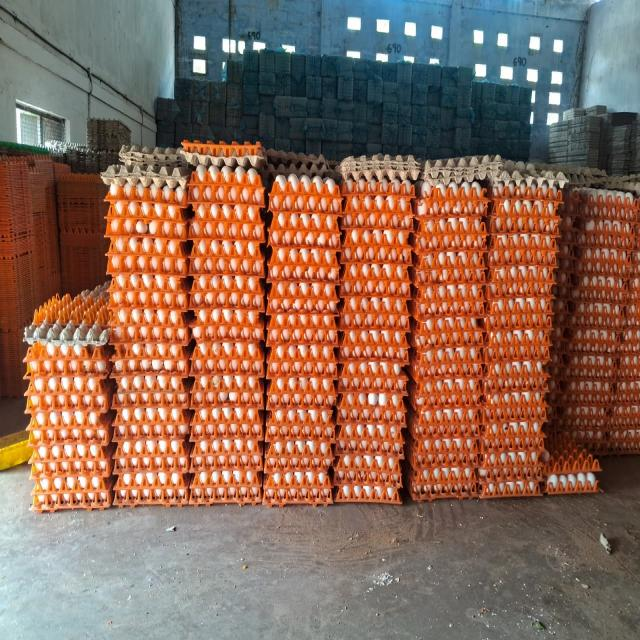egg_tray: (108, 184, 190, 505), (479, 183, 561, 497), (264, 175, 341, 505), (406, 183, 486, 499), (334, 179, 412, 502), (190, 165, 264, 503), (542, 189, 620, 493), (563, 190, 638, 451), (501, 187, 578, 433), (562, 190, 634, 446), (480, 253, 552, 495), (266, 175, 340, 408), (334, 290, 408, 501), (26, 342, 112, 511), (189, 166, 264, 347), (190, 322, 264, 503), (552, 187, 632, 352), (189, 165, 264, 341), (107, 183, 188, 343), (340, 181, 412, 359), (334, 329, 407, 501), (264, 335, 336, 505), (190, 339, 264, 504), (407, 347, 483, 499), (265, 343, 336, 504), (409, 318, 483, 469), (267, 175, 341, 321), (411, 185, 486, 329), (538, 186, 579, 447), (340, 180, 412, 328), (114, 365, 190, 505), (486, 192, 560, 333), (189, 165, 264, 303), (106, 183, 186, 309), (412, 183, 486, 319), (266, 347, 336, 487), (268, 181, 340, 313), (571, 192, 635, 339), (486, 201, 558, 331), (486, 202, 558, 330), (480, 357, 546, 496), (338, 281, 410, 405), (480, 360, 546, 494), (554, 329, 624, 452), (114, 393, 190, 505), (114, 394, 190, 505), (108, 237, 188, 342), (480, 367, 546, 494), (26, 343, 110, 441), (264, 392, 334, 505), (112, 307, 190, 408), (264, 393, 334, 505), (334, 392, 405, 501), (190, 401, 263, 503), (336, 361, 406, 467), (263, 403, 334, 505), (406, 406, 482, 499), (479, 391, 546, 496), (478, 393, 546, 496), (572, 190, 636, 299), (190, 407, 262, 503), (267, 316, 337, 412), (189, 237, 264, 325), (608, 253, 640, 453), (338, 328, 408, 419), (191, 322, 264, 409), (266, 408, 332, 504), (555, 352, 618, 451), (25, 343, 111, 415), (562, 345, 619, 451), (334, 420, 404, 503), (114, 407, 191, 481), (30, 443, 112, 511), (479, 407, 544, 492), (269, 174, 342, 248), (24, 283, 109, 346), (112, 343, 190, 410), (269, 176, 341, 248), (113, 405, 189, 473), (412, 250, 484, 319), (486, 257, 554, 330), (409, 317, 484, 383), (409, 316, 484, 382), (266, 342, 336, 411), (488, 183, 562, 248), (26, 283, 106, 343), (106, 183, 186, 241), (106, 183, 187, 239), (266, 314, 336, 378), (190, 184, 264, 242), (405, 445, 476, 501), (340, 179, 414, 231), (574, 189, 638, 249), (566, 279, 628, 337), (339, 312, 408, 363), (542, 434, 600, 494), (334, 452, 402, 503), (267, 243, 338, 291), (342, 228, 410, 278), (112, 366, 190, 409), (107, 235, 186, 277), (338, 359, 408, 406), (191, 233, 264, 278), (409, 316, 488, 357), (599, 374, 640, 453), (188, 165, 264, 207), (190, 461, 262, 505), (414, 181, 488, 223), (25, 342, 110, 378), (190, 374, 264, 415), (28, 409, 110, 446), (269, 173, 341, 215), (570, 299, 626, 353), (415, 176, 488, 217), (110, 273, 188, 311), (112, 371, 190, 409), (190, 275, 264, 315), (266, 338, 338, 379), (114, 437, 190, 475), (190, 305, 264, 344), (112, 307, 190, 344), (420, 155, 526, 182), (574, 189, 638, 233), (554, 187, 578, 301), (336, 419, 404, 459), (409, 377, 482, 414), (484, 359, 548, 401), (190, 341, 264, 377), (112, 343, 190, 377), (266, 313, 338, 349), (340, 261, 410, 298), (339, 295, 410, 331), (190, 406, 263, 441), (178, 140, 266, 169), (113, 471, 188, 505), (0, 155, 31, 237), (488, 230, 556, 267), (341, 227, 410, 263), (267, 281, 339, 315), (262, 471, 332, 505), (484, 326, 550, 362), (101, 163, 188, 190), (260, 162, 340, 191), (265, 439, 332, 473), (338, 153, 424, 179), (265, 409, 334, 441), (490, 173, 562, 203), (565, 406, 610, 454), (263, 148, 339, 176), (576, 247, 630, 278), (606, 407, 640, 454), (118, 145, 182, 168), (544, 470, 600, 494), (412, 385, 468, 408), (144, 345, 188, 372), (491, 332, 528, 357), (376, 230, 406, 259), (266, 491, 330, 503), (518, 249, 552, 269), (268, 360, 295, 377), (214, 309, 260, 317), (227, 450, 257, 460), (194, 324, 212, 340), (222, 293, 242, 305), (225, 442, 248, 451), (214, 309, 247, 315), (142, 330, 161, 340), (407, 443, 418, 460), (194, 330, 214, 339), (224, 317, 236, 332), (460, 319, 476, 330), (434, 205, 448, 217), (350, 316, 363, 327), (161, 487, 175, 497), (118, 343, 141, 349), (416, 362, 426, 375), (178, 487, 186, 503), (610, 225, 624, 233), (392, 331, 404, 339), (598, 235, 606, 245), (502, 255, 512, 263), (290, 360, 300, 368), (539, 274, 550, 281), (592, 238, 603, 245), (308, 183, 316, 192), (372, 228, 382, 235), (464, 472, 472, 480), (570, 341, 580, 347), (274, 171, 284, 177), (302, 315, 312, 321), (76, 335, 86, 341), (484, 486, 491, 494), (148, 492, 154, 501), (325, 316, 334, 322), (284, 315, 294, 320), (258, 325, 263, 335), (348, 281, 354, 289), (429, 365, 437, 371), (634, 355, 638, 367), (142, 487, 148, 495), (398, 322, 404, 330), (424, 330, 430, 338), (256, 223, 262, 230), (362, 234, 370, 239), (416, 209, 422, 215), (342, 323, 348, 329), (298, 345, 304, 351), (578, 333, 584, 339), (176, 477, 183, 482), (287, 182, 292, 189), (498, 485, 502, 493), (378, 202, 384, 207), (284, 351, 289, 357), (140, 432, 149, 435), (545, 321, 550, 326), (623, 354, 628, 359), (254, 177, 259, 182), (597, 303, 609, 305), (352, 385, 358, 389), (630, 434, 634, 440), (202, 372, 213, 374), (175, 354, 178, 361), (158, 345, 179, 346), (243, 318, 250, 321), (134, 381, 139, 385), (256, 313, 261, 317), (130, 490, 134, 495), (345, 475, 350, 479), (222, 310, 226, 315), (308, 347, 312, 352), (602, 192, 608, 195), (498, 486, 501, 492), (230, 318, 236, 321), (508, 485, 514, 488), (508, 407, 514, 410), (304, 331, 308, 335), (316, 316, 332, 317), (546, 323, 550, 327), (630, 408, 634, 412), (322, 185, 326, 189), (283, 393, 287, 397), (448, 187, 452, 191), (365, 228, 368, 233), (526, 227, 531, 230), (633, 399, 636, 404), (130, 360, 135, 363), (181, 343, 186, 346), (129, 345, 135, 347), (382, 247, 386, 250), (270, 317, 273, 321), (472, 352, 475, 356), (248, 327, 252, 330), (145, 475, 148, 479), (324, 379, 330, 381), (402, 300, 405, 304), (623, 292, 626, 296), (132, 433, 136, 436), (293, 176, 296, 180), (136, 361, 142, 363), (174, 343, 180, 345), (212, 310, 217, 312), (163, 343, 168, 345), (165, 355, 168, 358), (93, 338, 96, 341), (568, 331, 571, 334), (278, 328, 281, 331), (405, 327, 408, 330), (279, 361, 282, 364), (576, 342, 579, 345), (122, 335, 126, 337), (618, 202, 622, 204), (222, 310, 226, 312), (632, 409, 634, 413), (312, 331, 316, 333), (236, 310, 238, 314), (438, 189, 440, 193), (170, 366, 174, 368), (383, 185, 385, 188), (522, 332, 524, 335), (291, 315, 294, 317), (140, 394, 143, 396), (258, 327, 261, 329), (423, 477, 426, 479), (194, 444, 196, 447), (275, 477, 276, 483), (307, 361, 310, 363), (491, 380, 494, 382), (218, 177, 221, 179), (326, 402, 330, 403), (438, 321, 440, 323), (446, 215, 448, 217), (260, 336, 262, 338), (554, 379, 556, 381), (612, 304, 616, 305), (306, 378, 310, 379), (378, 460, 380, 462), (260, 329, 262, 331), (244, 312, 246, 314), (363, 315, 365, 317), (396, 300, 400, 301), (454, 474, 456, 476), (396, 299, 398, 301), (416, 355, 418, 357), (614, 222, 615, 225), (532, 394, 535, 395), (237, 311, 240, 312), (634, 401, 635, 404), (319, 316, 322, 317), (134, 376, 137, 377), (291, 176, 292, 179), (423, 185, 424, 188), (393, 256, 395, 257), (364, 286, 366, 287), (282, 349, 284, 350), (290, 315, 291, 317), (387, 300, 389, 301), (442, 451, 444, 452), (394, 299, 396, 300), (259, 456, 261, 457), (229, 394, 231, 395), (616, 296, 618, 297), (513, 256, 515, 257), (319, 316, 321, 317), (632, 423, 633, 425), (484, 495, 486, 496), (325, 379, 327, 380), (267, 502, 269, 503), (220, 187, 222, 188), (345, 327, 346, 328), (216, 347, 217, 348), (301, 332, 302, 333), (260, 336, 261, 337), (598, 469, 599, 470), (524, 203, 528, 203), (143, 359, 143, 359), (280, 403, 282, 403), (396, 219, 396, 219), (368, 203, 368, 203), (510, 363, 520, 363), (507, 276, 507, 278), (529, 219, 530, 219), (585, 341, 585, 341), (255, 305, 257, 305), (263, 302, 263, 304), (256, 301, 256, 302), (481, 391, 481, 392), (414, 387, 414, 388), (98, 336, 98, 337), (156, 491, 156, 492), (614, 411, 614, 413), (245, 223, 245, 223), (490, 354, 490, 355), (505, 187, 505, 188), (552, 323, 552, 324), (439, 487, 439, 488), (450, 458, 450, 459), (329, 485, 329, 486), (338, 238, 338, 239), (446, 191, 446, 192), (429, 185, 429, 186), (543, 332, 543, 333)
